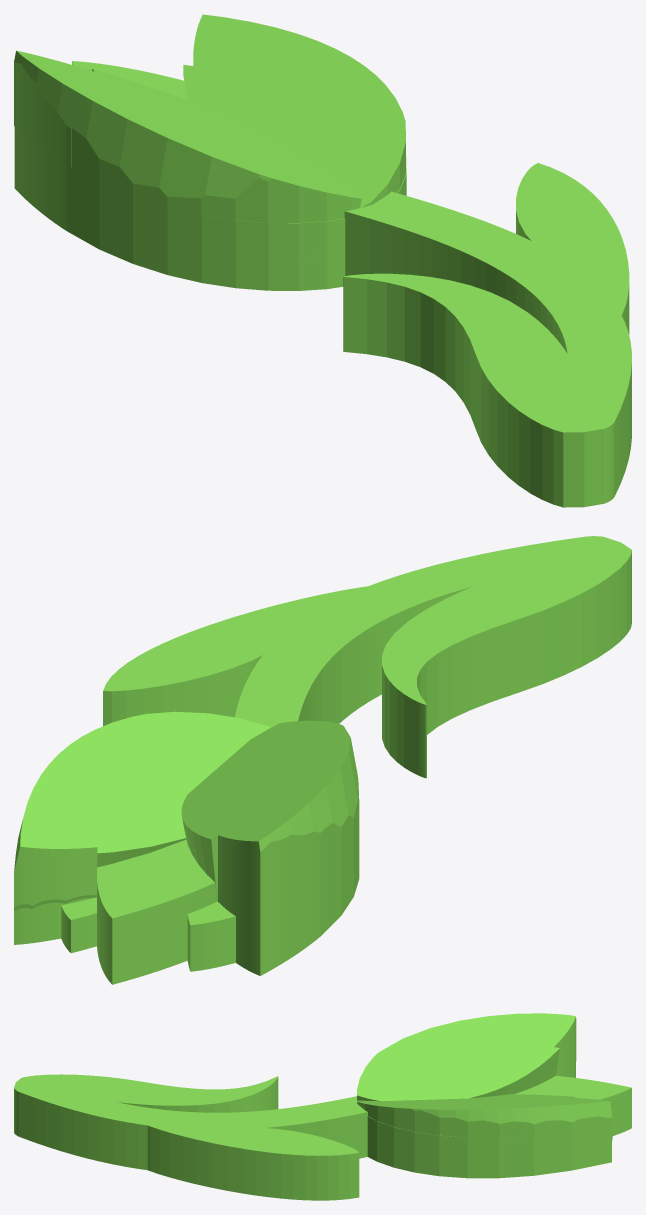
Rendered from tulip.glb.
3 renders of one model, top to bottom at view 1: azimuth 30°, elevation 25°; view 2: azimuth 150°, elevation 25°; view 3: azimuth 270°, elevation 25°, orthographic. The views are drawn at different scales.
Size of the model in its own units: 40 by 15 by 100.
